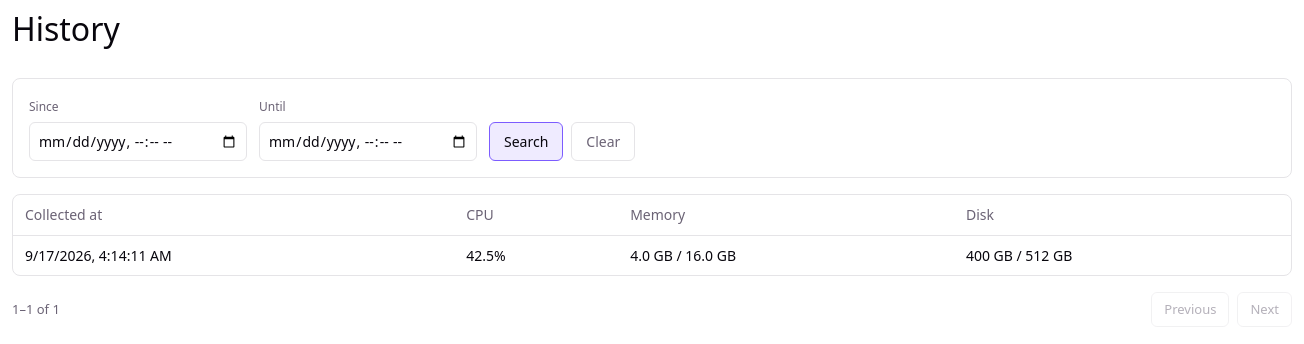
it: HistoryPage › clears filters and refetches page 0 unfiltered
Type "2026-09-08T09:00" into the field labelled "Since" at (138,142), box [29, 122, 247, 162]
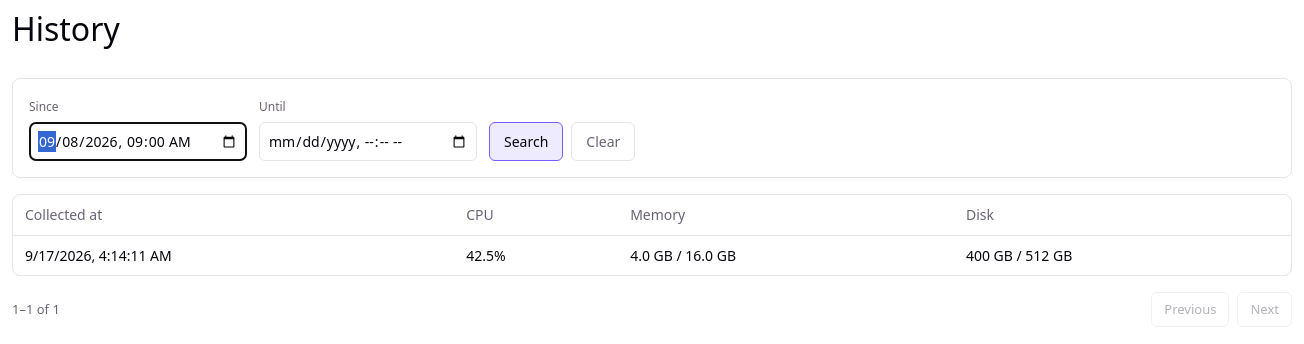
Click the button "Search" at (526,142), box [489, 122, 563, 162]
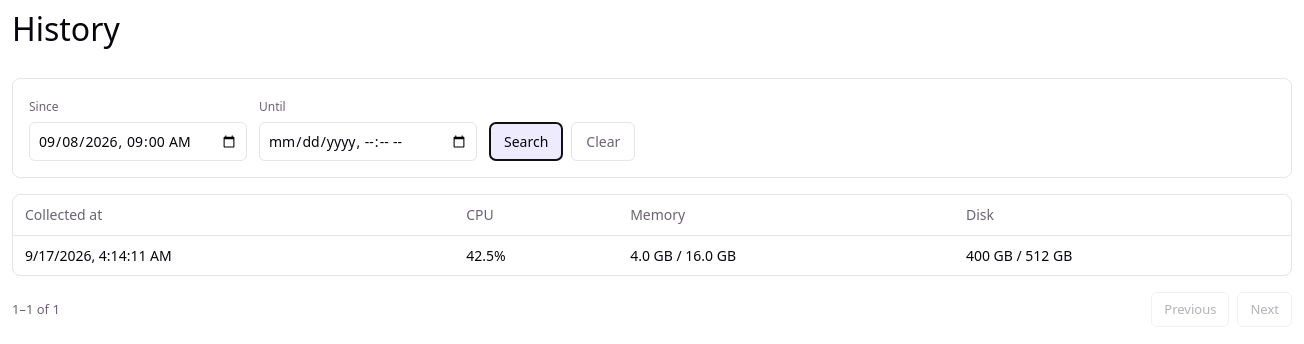
Click the button "Clear" at (603,142), box [571, 122, 635, 162]
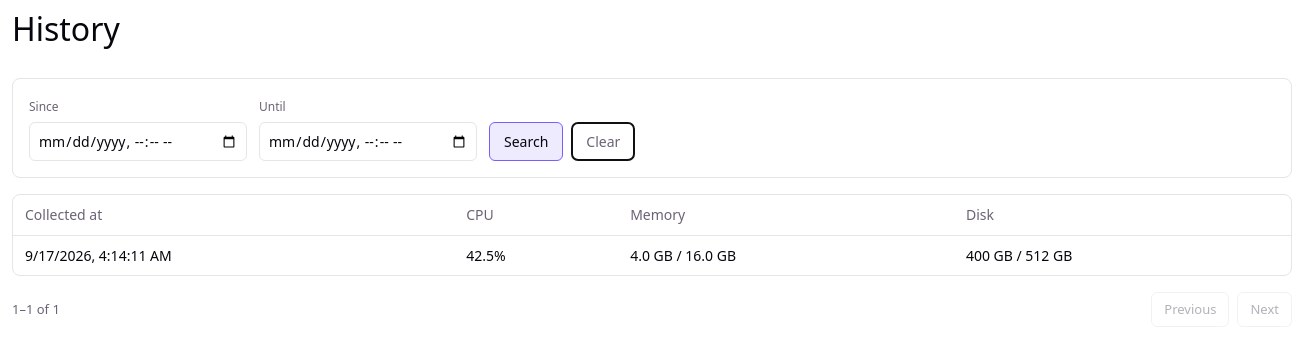
Now the field labelled "Since" is empty, box [29, 122, 247, 162]
